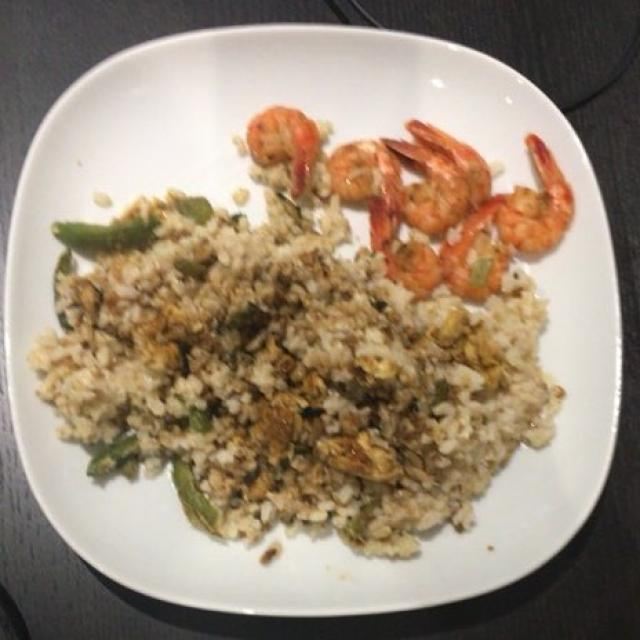rice: (62, 200, 546, 557)
shrimp-boiled: (247, 122, 566, 299)
